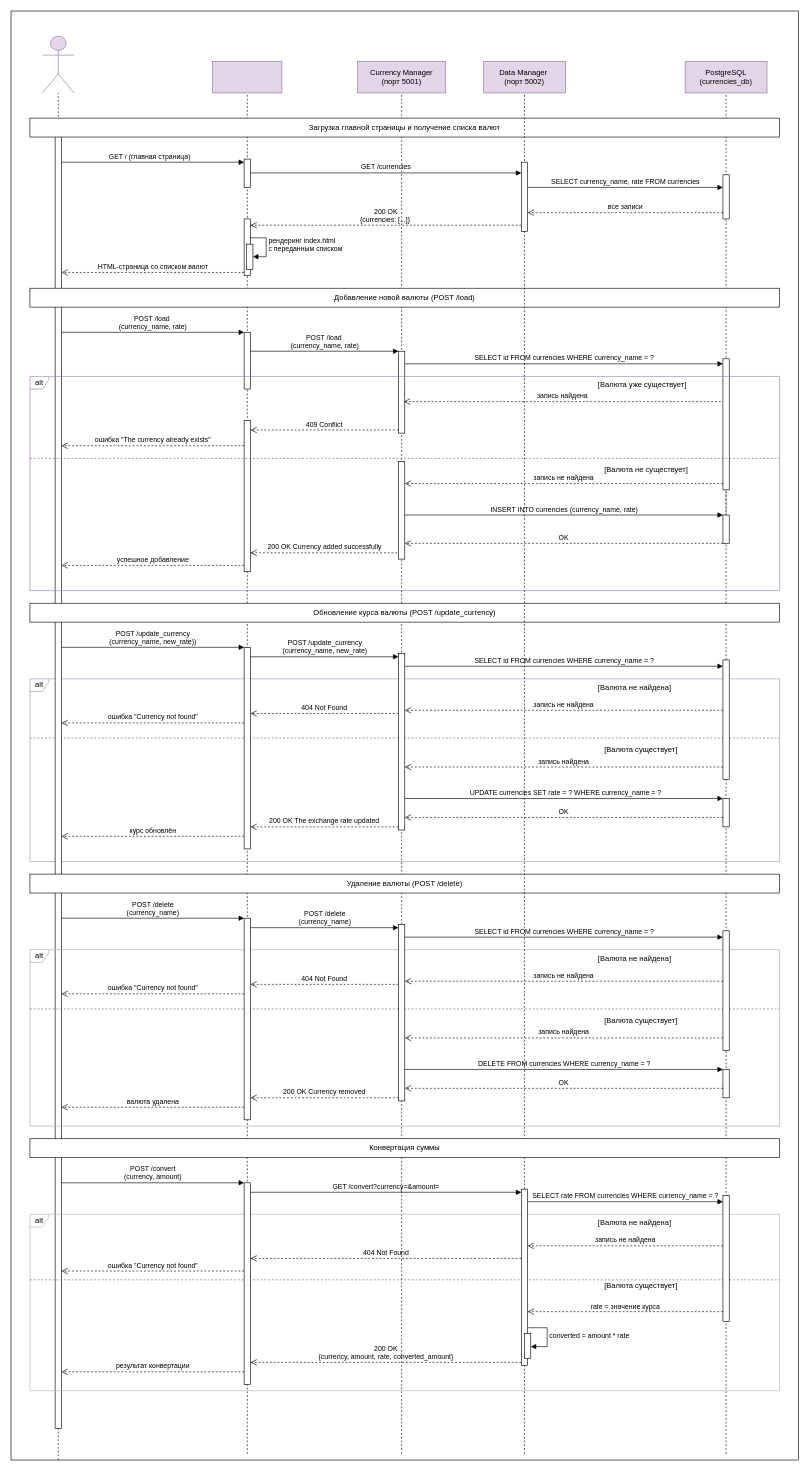
Image size: 810x1472. Some labels were removed from this diagram. Here are the shapes that lost their labels. From the top down, the centre of each, then its label:
At (58,64): "Пользователь".
At (247,77): "Gateway (порт 5000)".
